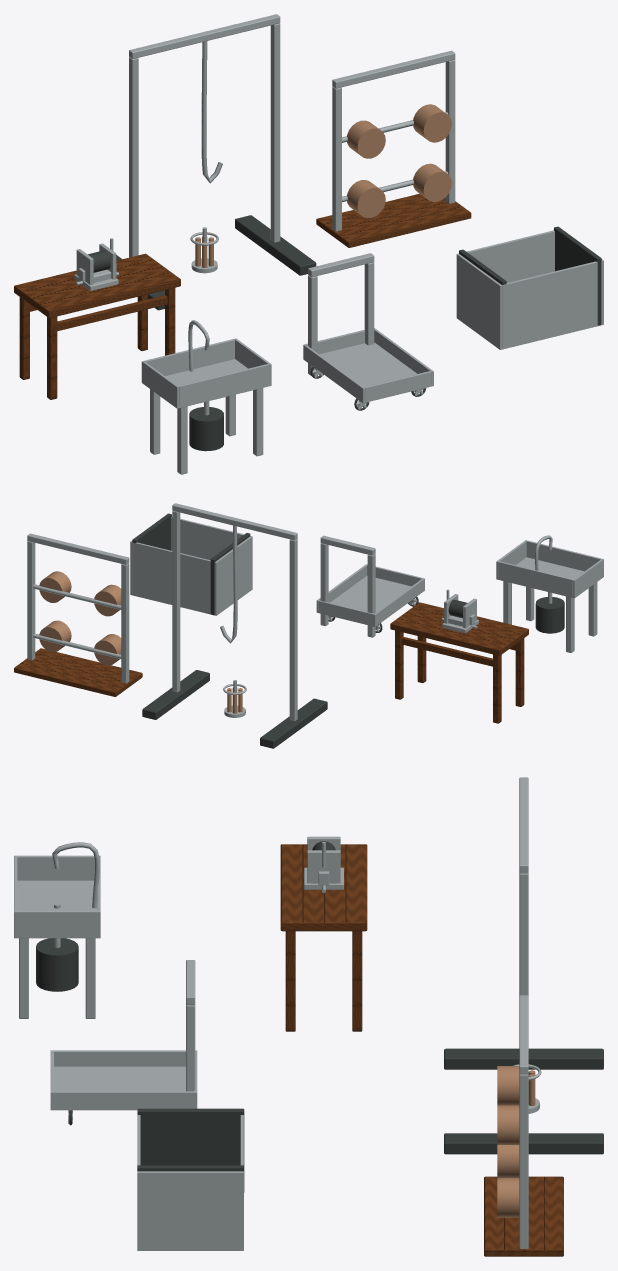
File: salvage-and-repair-workshop-mechanical-recovery-bay-85f7ada9__25507.glb
The picture shows the model from 3 angles, top to bottom: view 1: azimuth 30°, elevation 25°; view 2: azimuth 150°, elevation 25°; view 3: azimuth 270°, elevation 25°; orthographic projection. The views are drawn at different scales.
Visible parts, largest first — view 1: 004-scrap-metal-bin/0, 007-parts-washing-basin/0, 002-vice-bench/0, 005-reclamation-trolley/0, 000-recovery-hoist/0, 006-wire-spool-rack/0, 006-wire-spool-rack/1, 006-wire-spool-rack/2, 000-recovery-hoist/1, 004-scrap-metal-bin/1, 007-parts-washing-basin/1, 003-manual-winch/0; view 2: 004-scrap-metal-bin/0, 002-vice-bench/0, 007-parts-washing-basin/0, 005-reclamation-trolley/0, 000-recovery-hoist/0, 006-wire-spool-rack/0, 006-wire-spool-rack/2, 006-wire-spool-rack/1, 000-recovery-hoist/1, 004-scrap-metal-bin/1, 007-parts-washing-basin/1, 003-manual-winch/0 (+2 smaller); view 3: 005-reclamation-trolley/0, 007-parts-washing-basin/0, 004-scrap-metal-bin/0, 002-vice-bench/0, 004-scrap-metal-bin/1, 000-recovery-hoist/1, 006-wire-spool-rack/2, 006-wire-spool-rack/1, 006-wire-spool-rack/0, 000-recovery-hoist/0, 007-parts-washing-basin/1, 003-manual-winch/0.
Boxes of the visible parts, left/top/right/bottom form: 004-scrap-metal-bin/0: left=456, top=230, right=603, bottom=349; 007-parts-washing-basin/0: left=141, top=320, right=271, bottom=474; 002-vice-bench/0: left=14, top=253, right=180, bottom=399; 005-reclamation-trolley/0: left=303, top=253, right=433, bottom=409; 000-recovery-hoist/0: left=129, top=14, right=280, bottom=257; 006-wire-spool-rack/0: left=332, top=50, right=455, bottom=231; 006-wire-spool-rack/1: left=347, top=104, right=451, bottom=218; 006-wire-spool-rack/2: left=316, top=193, right=471, bottom=247; 000-recovery-hoist/1: left=116, top=215, right=316, bottom=310; 004-scrap-metal-bin/1: left=459, top=226, right=601, bottom=325; 007-parts-washing-basin/1: left=189, top=407, right=223, bottom=451; 003-manual-winch/0: left=74, top=238, right=118, bottom=290; 004-scrap-metal-bin/0: left=130, top=517, right=252, bottom=615; 002-vice-bench/0: left=390, top=602, right=528, bottom=723; 007-parts-washing-basin/0: left=496, top=535, right=603, bottom=652; 005-reclamation-trolley/0: left=316, top=535, right=424, bottom=637; 000-recovery-hoist/0: left=172, top=503, right=297, bottom=721; 006-wire-spool-rack/0: left=27, top=533, right=129, bottom=683; 006-wire-spool-rack/2: left=14, top=648, right=142, bottom=696; 006-wire-spool-rack/1: left=39, top=571, right=121, bottom=665; 000-recovery-hoist/1: left=142, top=670, right=327, bottom=748; 004-scrap-metal-bin/1: left=132, top=513, right=250, bottom=615; 007-parts-washing-basin/1: left=535, top=597, right=564, bottom=633; 003-manual-winch/0: left=442, top=589, right=478, bottom=633; 005-reclamation-trolley/0: left=50, top=960, right=197, bottom=1123; 007-parts-washing-basin/0: left=14, top=842, right=100, bottom=1018; 004-scrap-metal-bin/0: left=137, top=1111, right=243, bottom=1250; 002-vice-bench/0: left=280, top=844, right=367, bottom=1031; 004-scrap-metal-bin/1: left=137, top=1108, right=244, bottom=1192; 000-recovery-hoist/1: left=444, top=1048, right=603, bottom=1154; 006-wire-spool-rack/2: left=484, top=1176, right=563, bottom=1256; 006-wire-spool-rack/1: left=497, top=1066, right=519, bottom=1217; 006-wire-spool-rack/0: left=519, top=995, right=528, bottom=1248; 000-recovery-hoist/0: left=519, top=777, right=528, bottom=995; 007-parts-washing-basin/1: left=36, top=938, right=78, bottom=991; 003-manual-winch/0: left=304, top=836, right=343, bottom=889.
Size of the model in its own units: 5.35 by 2.37 by 4.43.
Materials: 4 (1 with a texture image).
